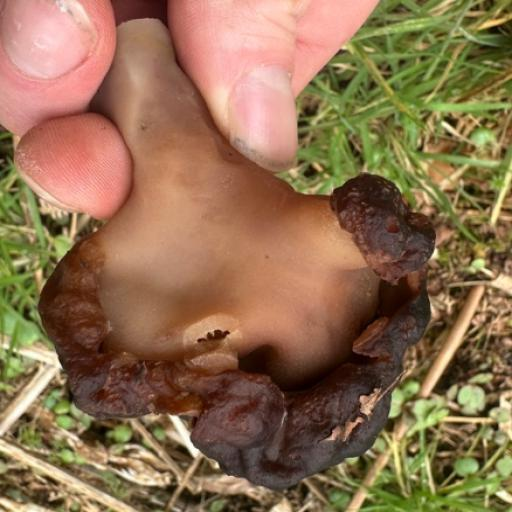mushroom: (0, 8, 496, 512)
